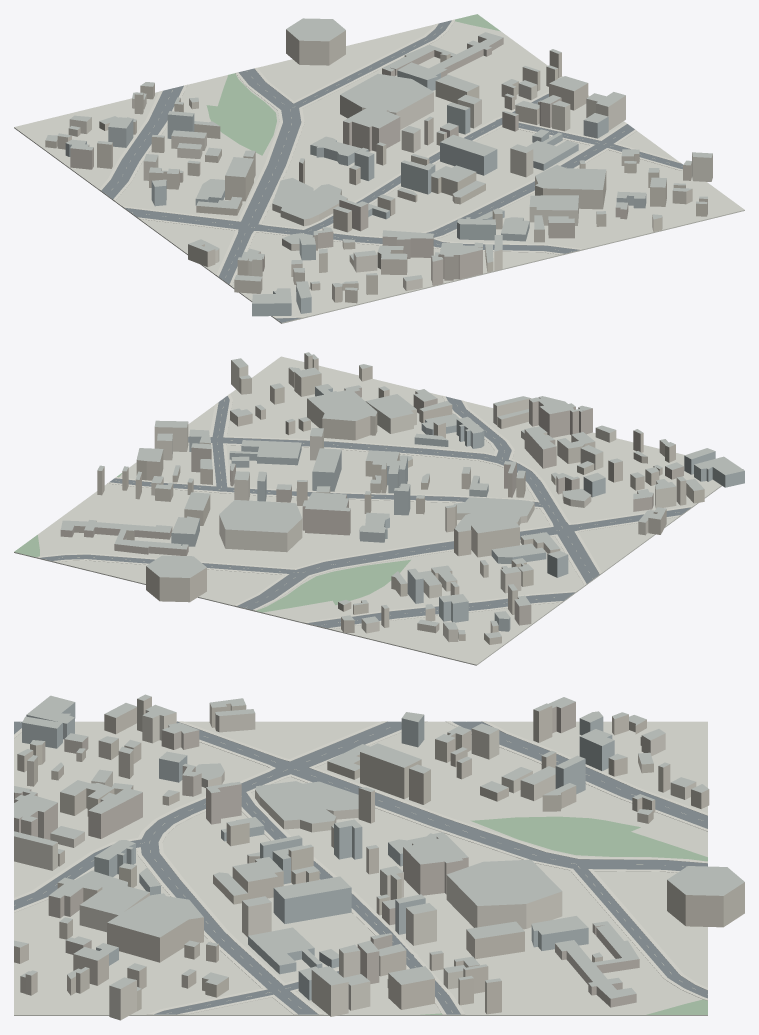
3 views of the same model, one above another, from view 1: azimuth 30°, elevation 25°; view 2: azimuth 150°, elevation 25°; view 3: azimuth 270°, elevation 25° (orthographic). The views are drawn at different scales.
Parts seen in each view (by area): view 1: city; view 2: city; view 3: city.
Part boxes in pixels (box(x1,y1,x2,y2)): city: box(14, 14, 744, 323); city: box(14, 352, 744, 665); city: box(14, 694, 744, 1020).
Bounding box in the file's own units: 526 × 26 × 527.
